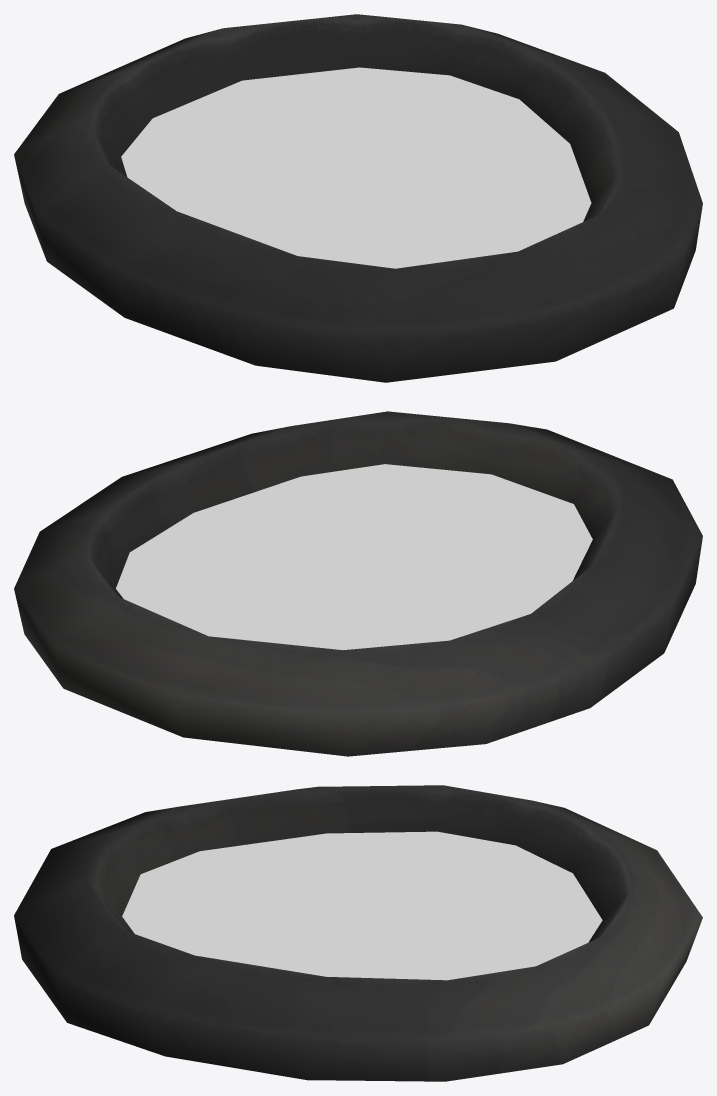
File: PhotoFrameB.fbx
3 renders of one model, top to bottom at view 1: azimuth 30°, elevation 25°; view 2: azimuth 150°, elevation 25°; view 3: azimuth 270°, elevation 25°, orthographic. The views are drawn at different scales.
Parts seen in each view (by area): view 1: PhotoFrameBNotLitUp, PhotoFrameBLitUp; view 2: PhotoFrameBNotLitUp, PhotoFrameBLitUp; view 3: PhotoFrameBNotLitUp, PhotoFrameBLitUp.
Boxes of the visible parts, bbox=[...] form: PhotoFrameBNotLitUp: bbox=[14, 14, 702, 382]; PhotoFrameBLitUp: bbox=[121, 67, 591, 268]; PhotoFrameBNotLitUp: bbox=[14, 411, 702, 756]; PhotoFrameBLitUp: bbox=[116, 464, 592, 650]; PhotoFrameBNotLitUp: bbox=[14, 785, 702, 1081]; PhotoFrameBLitUp: bbox=[122, 831, 602, 980].
Size of the model in its own units: 53.85 by 7.59 by 61.9.
